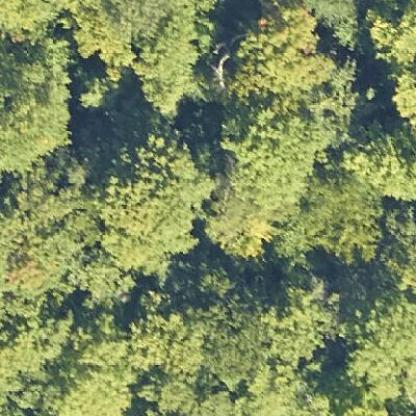tree-top: (195, 98, 337, 257), (72, 0, 215, 121), (100, 133, 215, 281), (0, 161, 108, 306), (221, 4, 337, 103), (280, 167, 388, 266), (0, 29, 72, 168), (185, 289, 282, 390), (40, 327, 140, 415), (340, 292, 415, 400), (274, 274, 340, 368), (361, 3, 415, 71), (377, 67, 415, 130)
